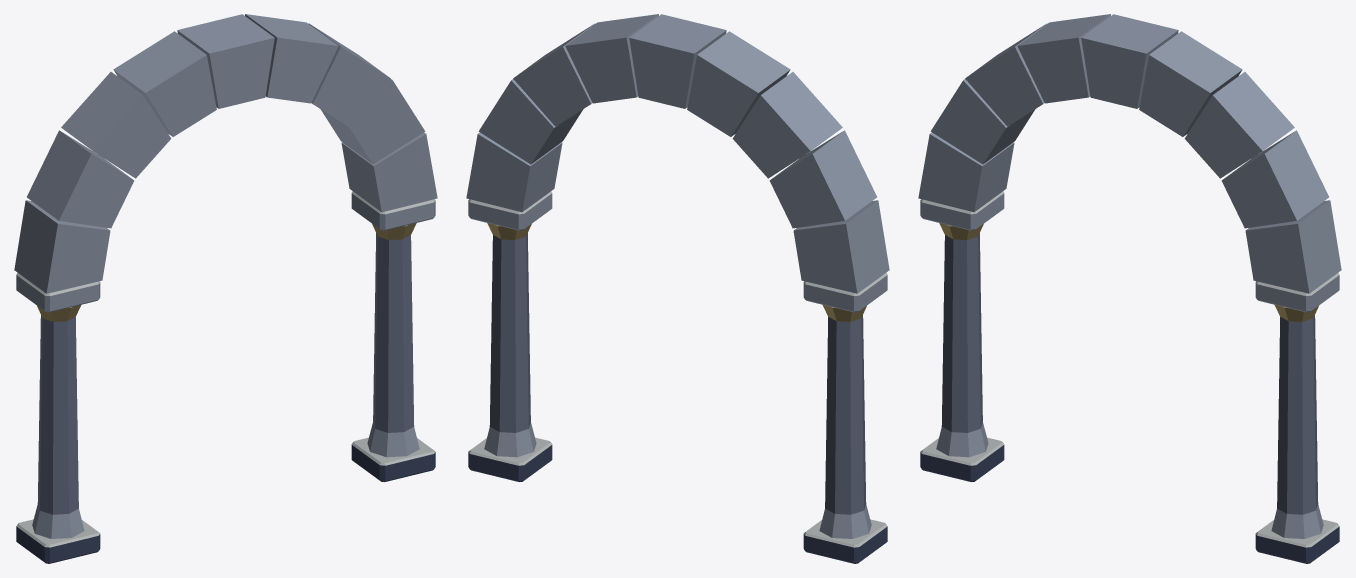
Rendered from arch-free.glb.
The picture shows the model from 3 angles, left to right: view 1: azimuth 30°, elevation 25°; view 2: azimuth 150°, elevation 25°; view 3: azimuth 330°, elevation 25°; orthographic projection.
Parts seen in each view (by area): view 1: arch-free__body; view 2: arch-free__body; view 3: arch-free__body.
Part boxes in pixels (x1=…): arch-free__body: x1=14, y1=14, x2=437, y2=563; arch-free__body: x1=466, y1=14, x2=889, y2=563; arch-free__body: x1=918, y1=14, x2=1341, y2=563.
Bounding box in the file's own units: 2.8 × 3.23 × 0.4.
